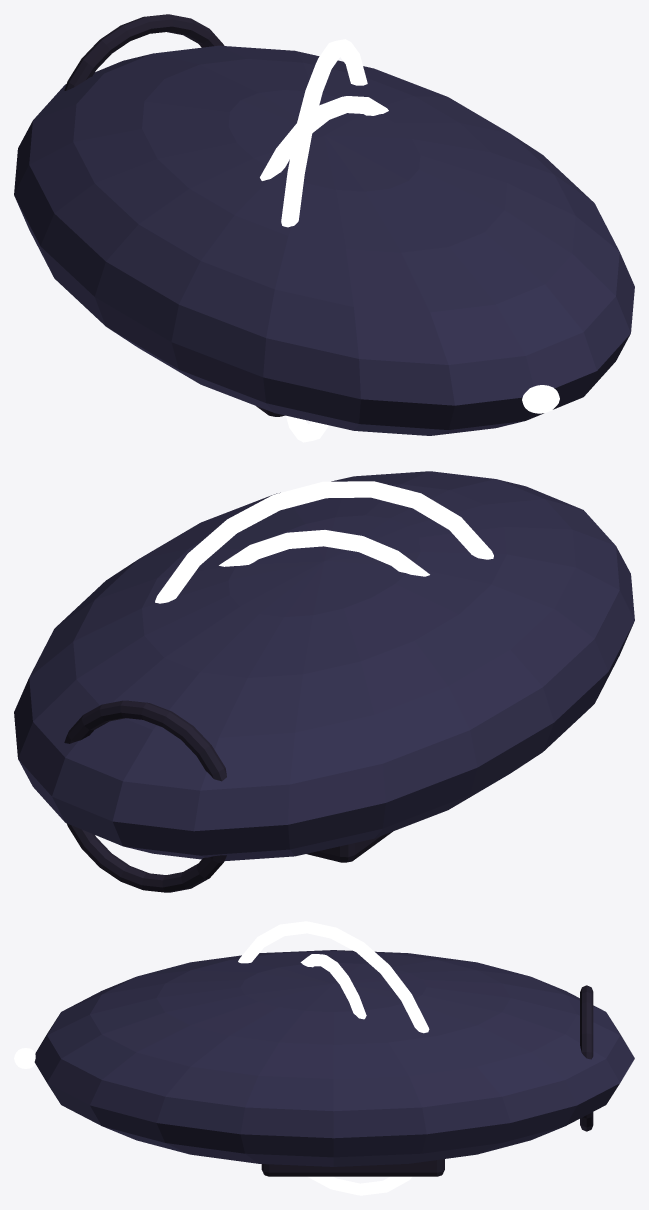
The picture shows the model from 3 angles, top to bottom: view 1: azimuth 30°, elevation 25°; view 2: azimuth 150°, elevation 25°; view 3: azimuth 270°, elevation 25°; orthographic projection. The views are drawn at different scales.
Parts seen in each view (by area): view 1: RIMWARD_HULL, RIMWARD_EMISSIVE, RIMWARD_ENGINE_GLOW; view 2: RIMWARD_HULL, RIMWARD_EMISSIVE; view 3: RIMWARD_HULL, RIMWARD_EMISSIVE.
Part boxes in pixels (x1,y1,x2,y2): RIMWARD_HULL: (14, 14, 634, 435); RIMWARD_EMISSIVE: (260, 39, 388, 442); RIMWARD_ENGINE_GLOW: (522, 385, 559, 413); RIMWARD_HULL: (14, 471, 634, 892); RIMWARD_EMISSIVE: (155, 481, 493, 603); RIMWARD_HULL: (34, 950, 634, 1176); RIMWARD_EMISSIVE: (238, 921, 429, 1195).
Size of the model in its own units: 6.34 by 4.86 by 10.43.
